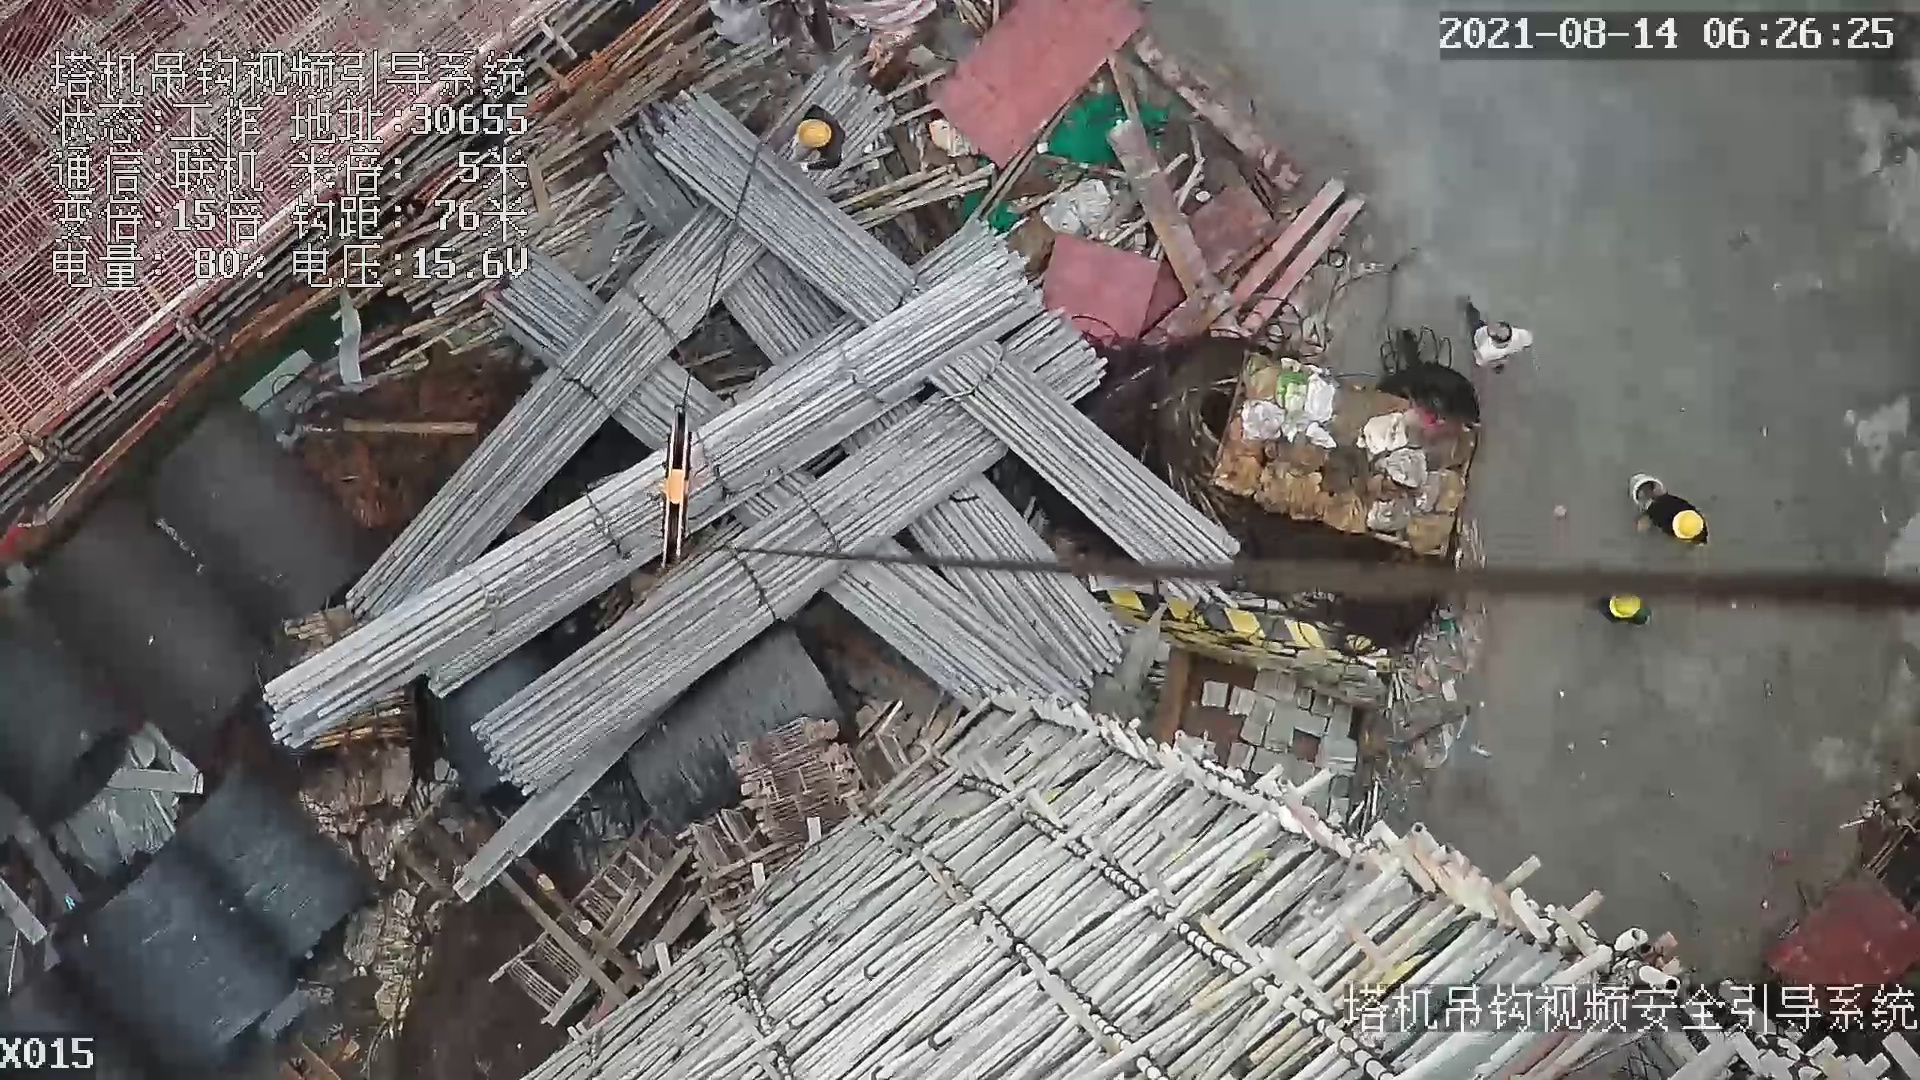helmet: (1670, 508, 1701, 545), (799, 115, 834, 148), (1612, 594, 1649, 619)
hook: (650, 403, 705, 572)
person: (1627, 467, 1712, 550), (1460, 296, 1531, 372), (788, 101, 850, 177)
